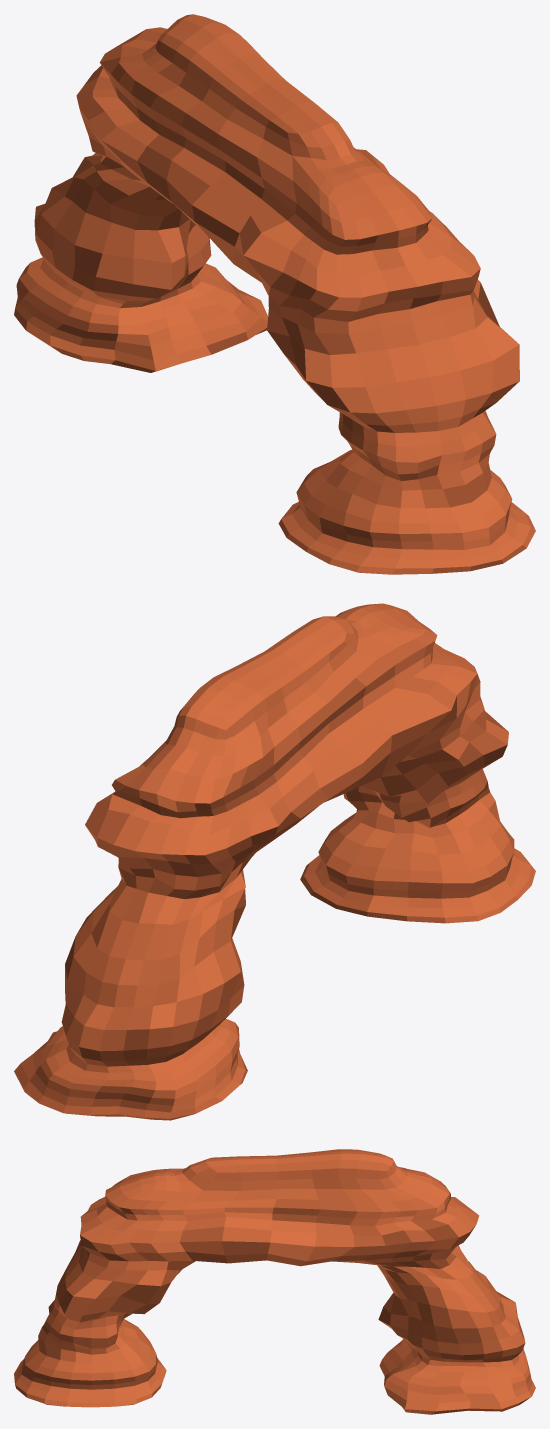
File: stoneArch.fbx
The picture shows the model from 3 angles, top to bottom: view 1: azimuth 30°, elevation 25°; view 2: azimuth 150°, elevation 25°; view 3: azimuth 270°, elevation 25°; orthographic projection. The views are drawn at different scales.
Visible parts, largest first — view 1: Plane; view 2: Plane; view 3: Plane.
Part boxes in pixels (x1,y1,x2,y2): Plane: [14, 14, 535, 574]; Plane: [14, 603, 535, 1120]; Plane: [14, 1149, 535, 1414].
Size of the model in its own units: 685 by 1058 by 2149.
